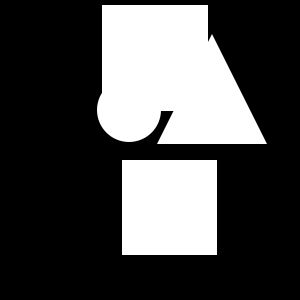circle: (102, 5, 208, 111), (122, 160, 217, 255)
rectangle: (97, 78, 161, 142)
triangle: (157, 34, 267, 144)
